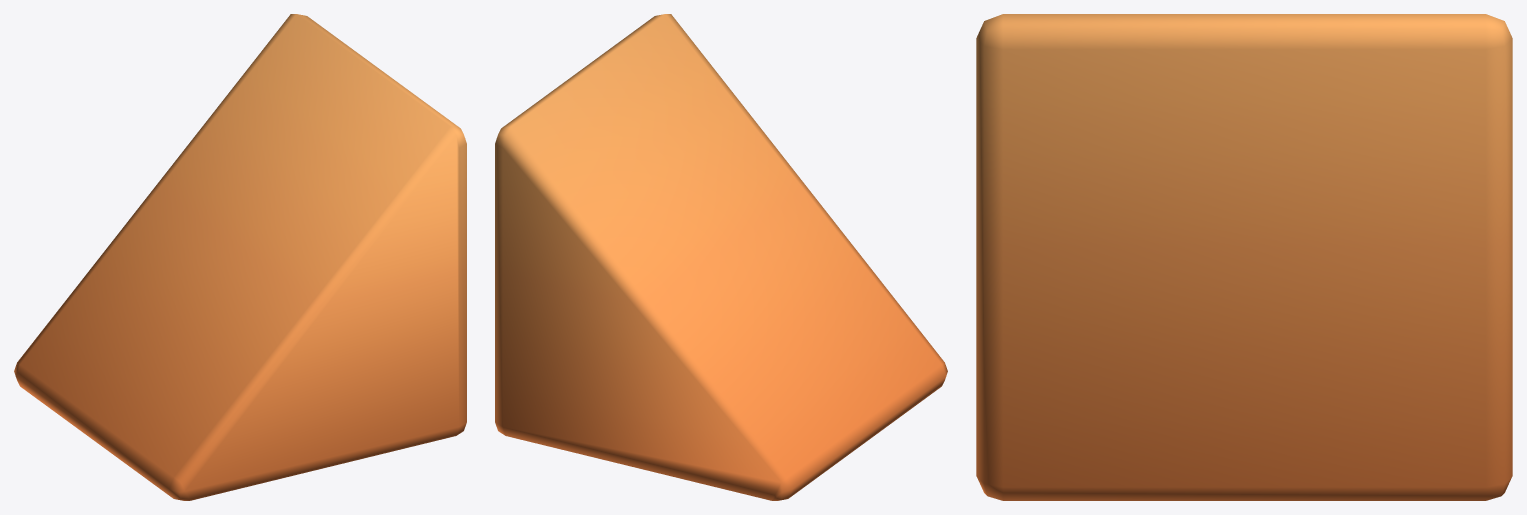
File: 3D_Tile_Ground_Slope_02.fbx
3 views of the same model, side by side, from view 1: azimuth 30°, elevation 25°; view 2: azimuth 150°, elevation 25°; view 3: azimuth 270°, elevation 25° (orthographic). The views are drawn at different scales.
Visible parts, largest first — view 1: 3D_Tile_Ground_Slope_02; view 2: 3D_Tile_Ground_Slope_02; view 3: 3D_Tile_Ground_Slope_02.
Boxes of the visible parts, x1=… form: 3D_Tile_Ground_Slope_02: x1=14, y1=14, x2=466, y2=500; 3D_Tile_Ground_Slope_02: x1=495, y1=14, x2=947, y2=500; 3D_Tile_Ground_Slope_02: x1=976, y1=14, x2=1512, y2=500.
Size of the model in its own units: 200 by 200 by 200.
